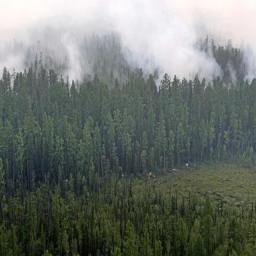Low smoke: (0, 0, 256, 81)
